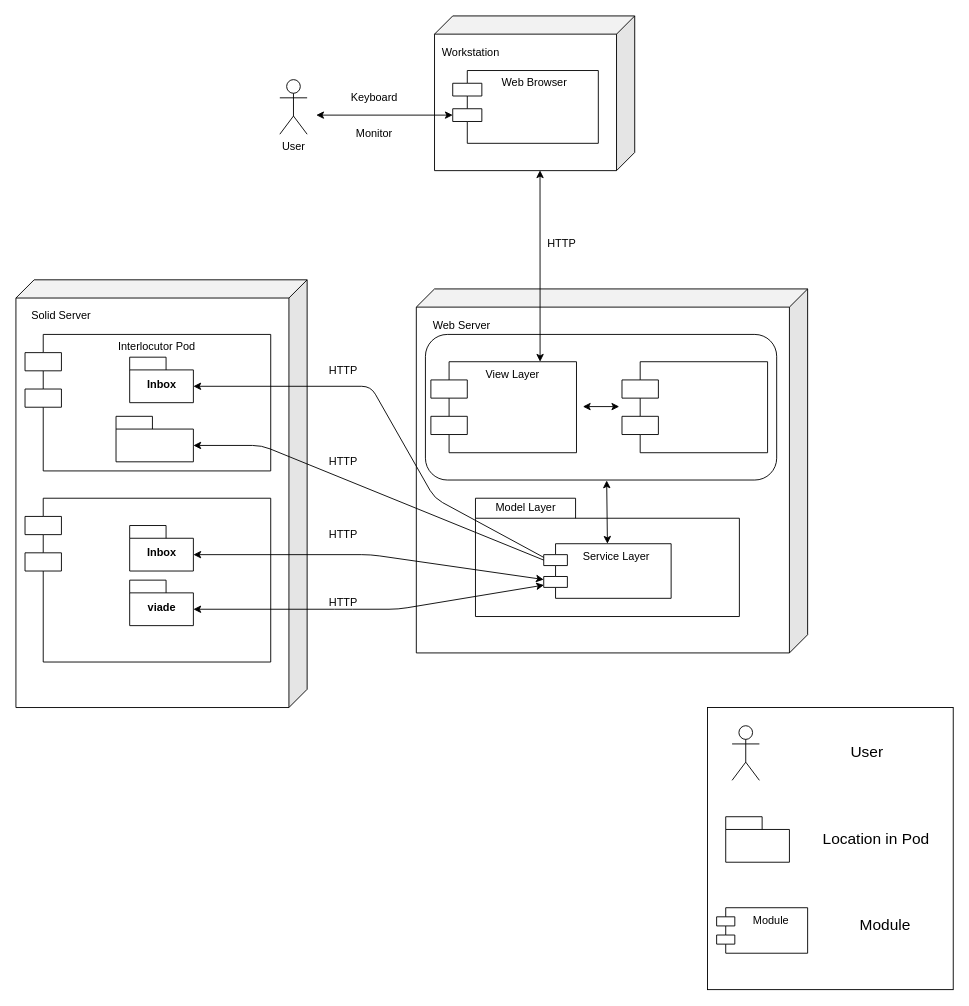
This 969x1006 diagram has some shape labels left out. The shapes that lost their labels are listed below. From the top down, each one's box as (x1, y1, x2, y2) in pixels, then its label:
(621, 361, 768, 453): Controller Layer
(115, 415, 193, 462): viade/shared
(24, 497, 271, 662): User Pod
(725, 816, 789, 862): Location
